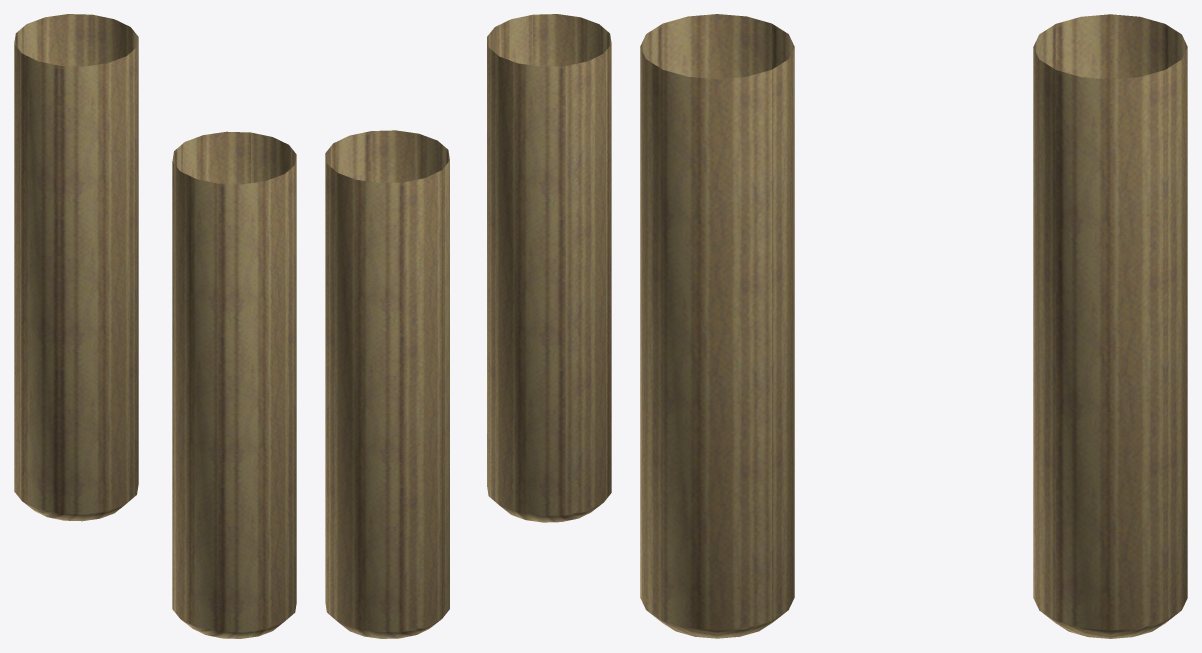
Rendered from SunBeachRopeExtension.fbx.
The picture shows the model from 3 angles, left to right: view 1: azimuth 30°, elevation 25°; view 2: azimuth 150°, elevation 25°; view 3: azimuth 270°, elevation 25°; orthographic projection. The views are drawn at different scales.
Visible parts, largest first — view 1: FloatyBeachTheSecond.001; view 2: FloatyBeachTheSecond.001; view 3: FloatyBeachTheSecond.001.
Part boxes in pixels (left/top/right/bottom): FloatyBeachTheSecond.001: left=14, top=14, right=296, bottom=638; FloatyBeachTheSecond.001: left=325, top=14, right=611, bottom=638; FloatyBeachTheSecond.001: left=640, top=14, right=1187, bottom=638.
Bounding box in the file's own units: 8403 × 33622 × 29390.
